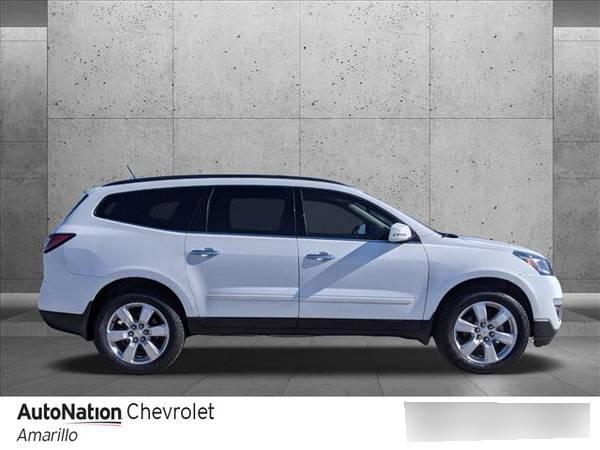Front_Bumper: (512, 273, 562, 343)
Front_Fender: (420, 234, 544, 346)
Front_Right_Door: (299, 237, 433, 335)
Front_Right_Window: (298, 188, 426, 244)
Rear_Bumper: (39, 244, 107, 337)
Rear_Fender: (64, 188, 206, 331)
Rear_Right_Door: (184, 232, 301, 333)
Rear_Right_Window: (188, 184, 298, 239)
Right_Headlight: (515, 250, 556, 275)
Right_Taillight: (42, 233, 75, 255)
Roof: (57, 176, 437, 241)
Wheel: (90, 286, 185, 374), (434, 282, 531, 366)
